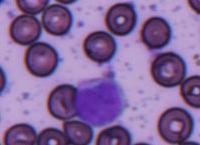L: (72, 76, 127, 126)
